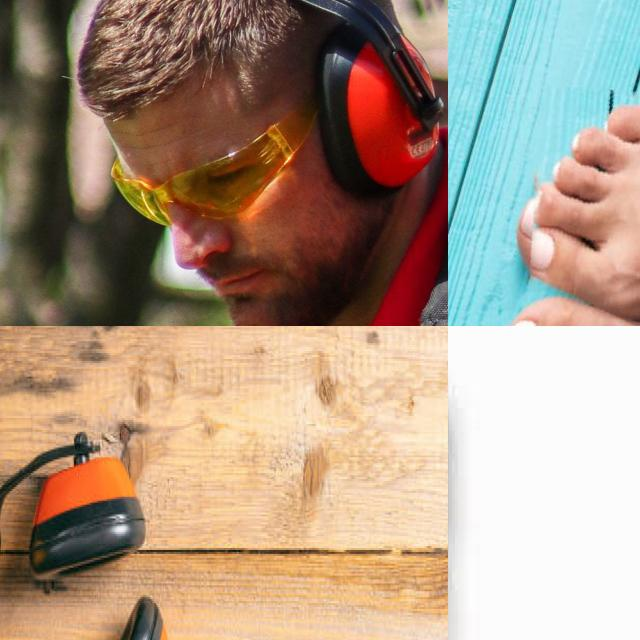Barefoots: (517, 98, 640, 315)
Ear-protection: (86, 0, 448, 194), (0, 430, 180, 640)
Sandals: (448, 326, 640, 640)
glasses: (100, 102, 322, 225)
